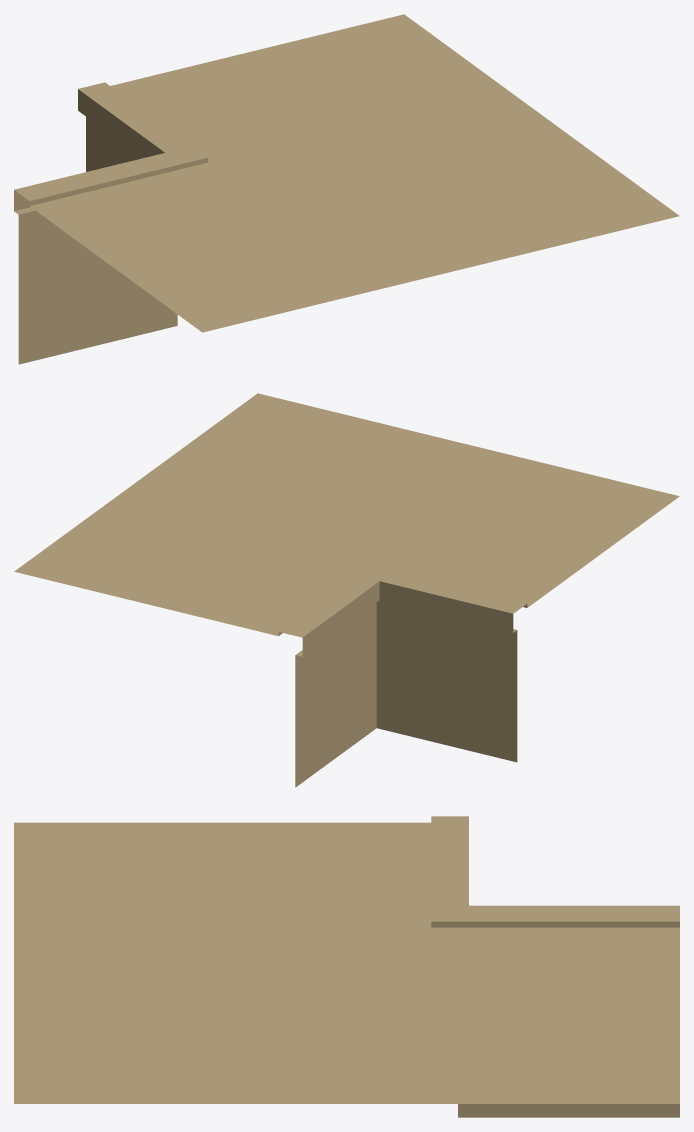
File: Groundpiece_Side_Corner_Large_Right_Sewer_Environment.FBX
The picture shows the model from 3 angles, top to bottom: view 1: azimuth 30°, elevation 25°; view 2: azimuth 150°, elevation 25°; view 3: azimuth 270°, elevation 25°; orthographic projection. The views are drawn at different scales.
Parts seen in each view (by area): view 1: Bodenpiece_Seite_Ecke_Groß_rechts; view 2: Bodenpiece_Seite_Ecke_Groß_rechts; view 3: Bodenpiece_Seite_Ecke_Groß_rechts.
Boxes of the visible parts, bbox=[...] form: Bodenpiece_Seite_Ecke_Groß_rechts: bbox=[14, 14, 679, 364]; Bodenpiece_Seite_Ecke_Groß_rechts: bbox=[14, 393, 679, 787]; Bodenpiece_Seite_Ecke_Groß_rechts: bbox=[14, 816, 679, 1117].
Bounding box in the file's own units: 300 × 103 × 300.
